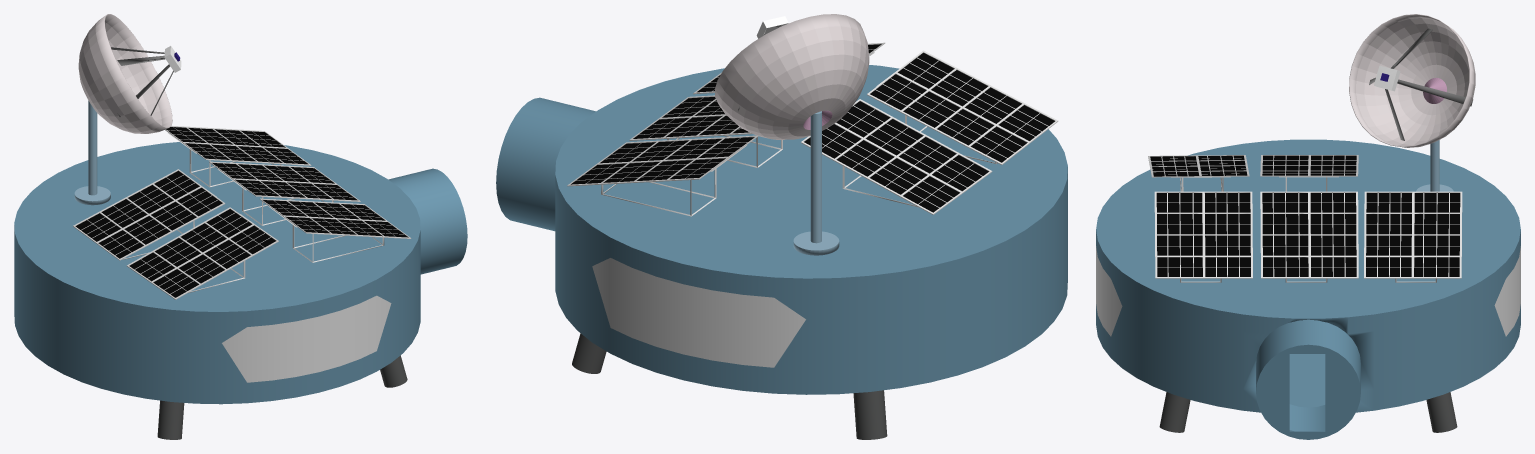
File: BilimEv3.0.fbx
3 renders of one model, left to right at view 1: azimuth 30°, elevation 25°; view 2: azimuth 150°, elevation 25°; view 3: azimuth 270°, elevation 25°, orthographic. The views are drawn at different scales.
Visible parts, largest first — view 1: govde, panel .002, anten, panel, panel .001, Cylinder, bacak; view 2: govde, anten, panel .002, panel .001, Cylinder, panel, bacak; view 3: govde, panel, anten, panel .002, Cylinder, panel .001, bacak.
Part boxes in pixels (box(x1,y1,x2,y2)): govde: box(14, 142, 420, 404); panel .002: box(73, 161, 360, 260); anten: box(74, 14, 181, 205); panel: box(165, 125, 411, 262); panel .001: box(126, 207, 278, 299); Cylinder: box(388, 168, 467, 274); bacak: box(157, 355, 407, 439); govde: box(555, 65, 1067, 394); anten: box(715, 14, 869, 255); panel .002: box(629, 95, 992, 214); panel .001: box(867, 50, 1058, 164); Cylinder: box(496, 97, 595, 231); panel: box(567, 42, 885, 216); bacak: box(572, 333, 887, 439); govde: box(1096, 139, 1520, 412); panel: box(1154, 191, 1462, 282); anten: box(1349, 14, 1475, 191); panel .002: box(1260, 155, 1358, 282); Cylinder: box(1256, 319, 1360, 439); panel .001: box(1148, 155, 1249, 191); bacak: box(1159, 392, 1457, 432).
Size of the model in its own units: 22755 by 17158 by 20000.
